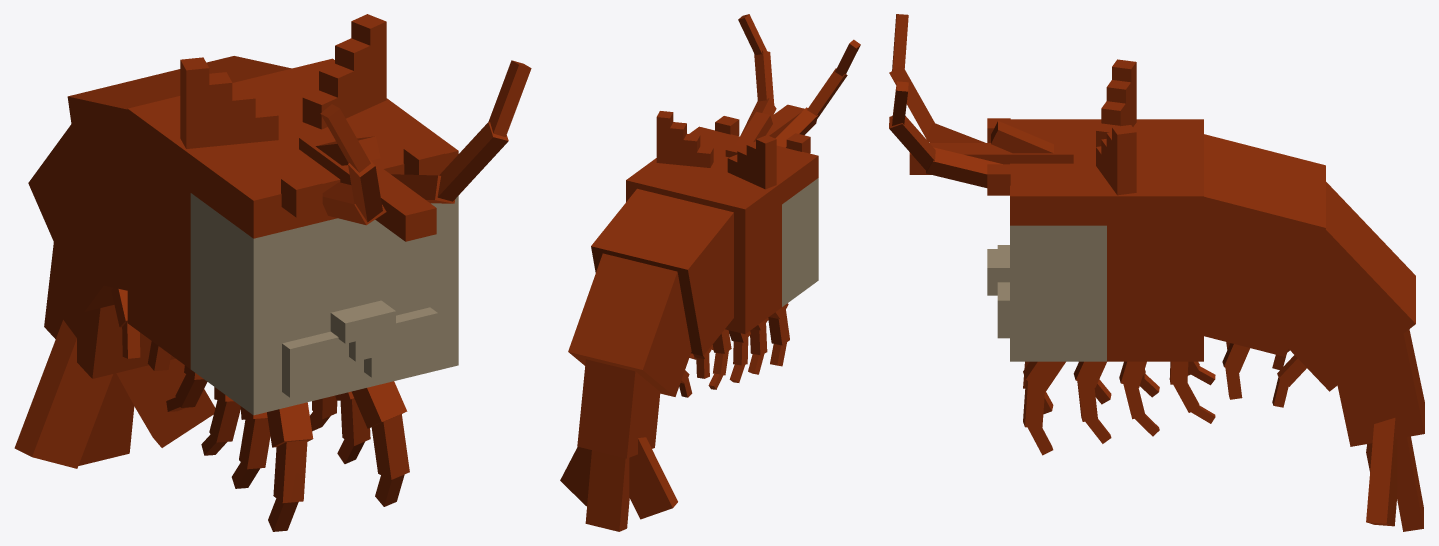
The picture shows the model from 3 angles, left to right: view 1: azimuth 30°, elevation 25°; view 2: azimuth 150°, elevation 25°; view 3: azimuth 270°, elevation 25°; orthographic projection. The views are drawn at different scales.
Parts seen in each view (by area): view 1: Pack 9.005; view 2: Pack 9.005; view 3: Pack 9.005.
Part boxes in pixels (x1,y1,x2,y2): Pack 9.005: (14, 14, 531, 531); Pack 9.005: (560, 14, 860, 531); Pack 9.005: (889, 14, 1424, 531).
Size of the model in its own units: 206 by 590 by 606.
